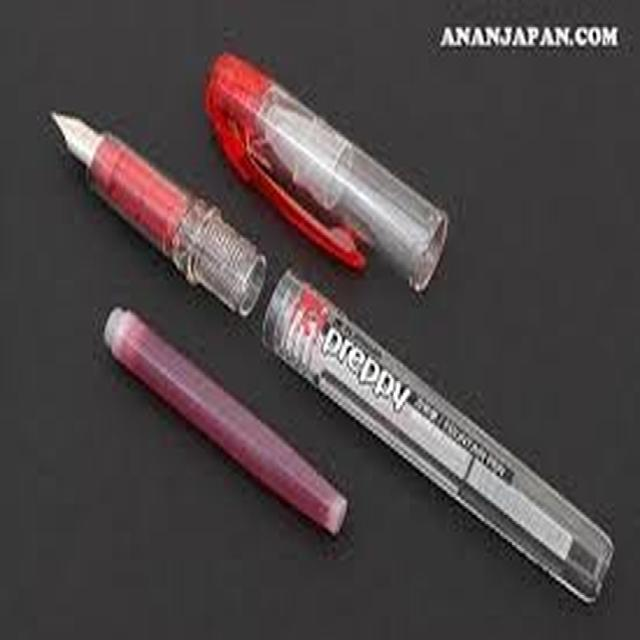pen: (57, 75, 616, 593), (242, 259, 634, 514), (80, 277, 358, 550), (193, 34, 460, 305), (28, 73, 270, 339)
